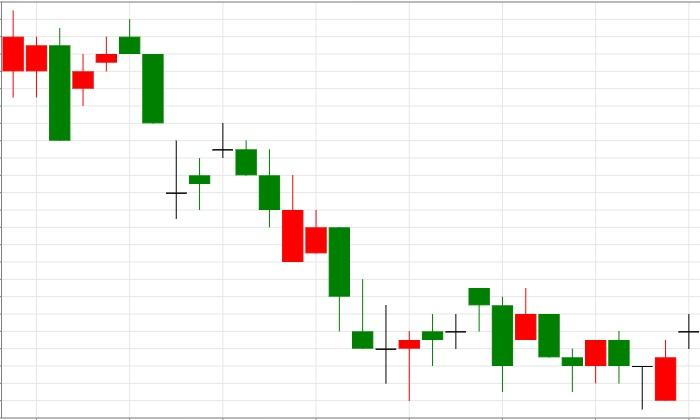inverse_hammer_rise: (212, 122, 373, 349)
